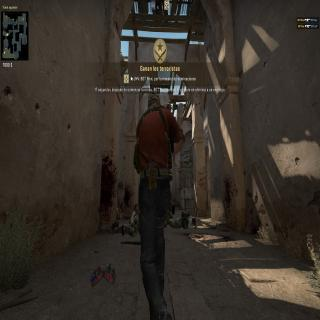T-Head: (144, 87, 165, 112)
